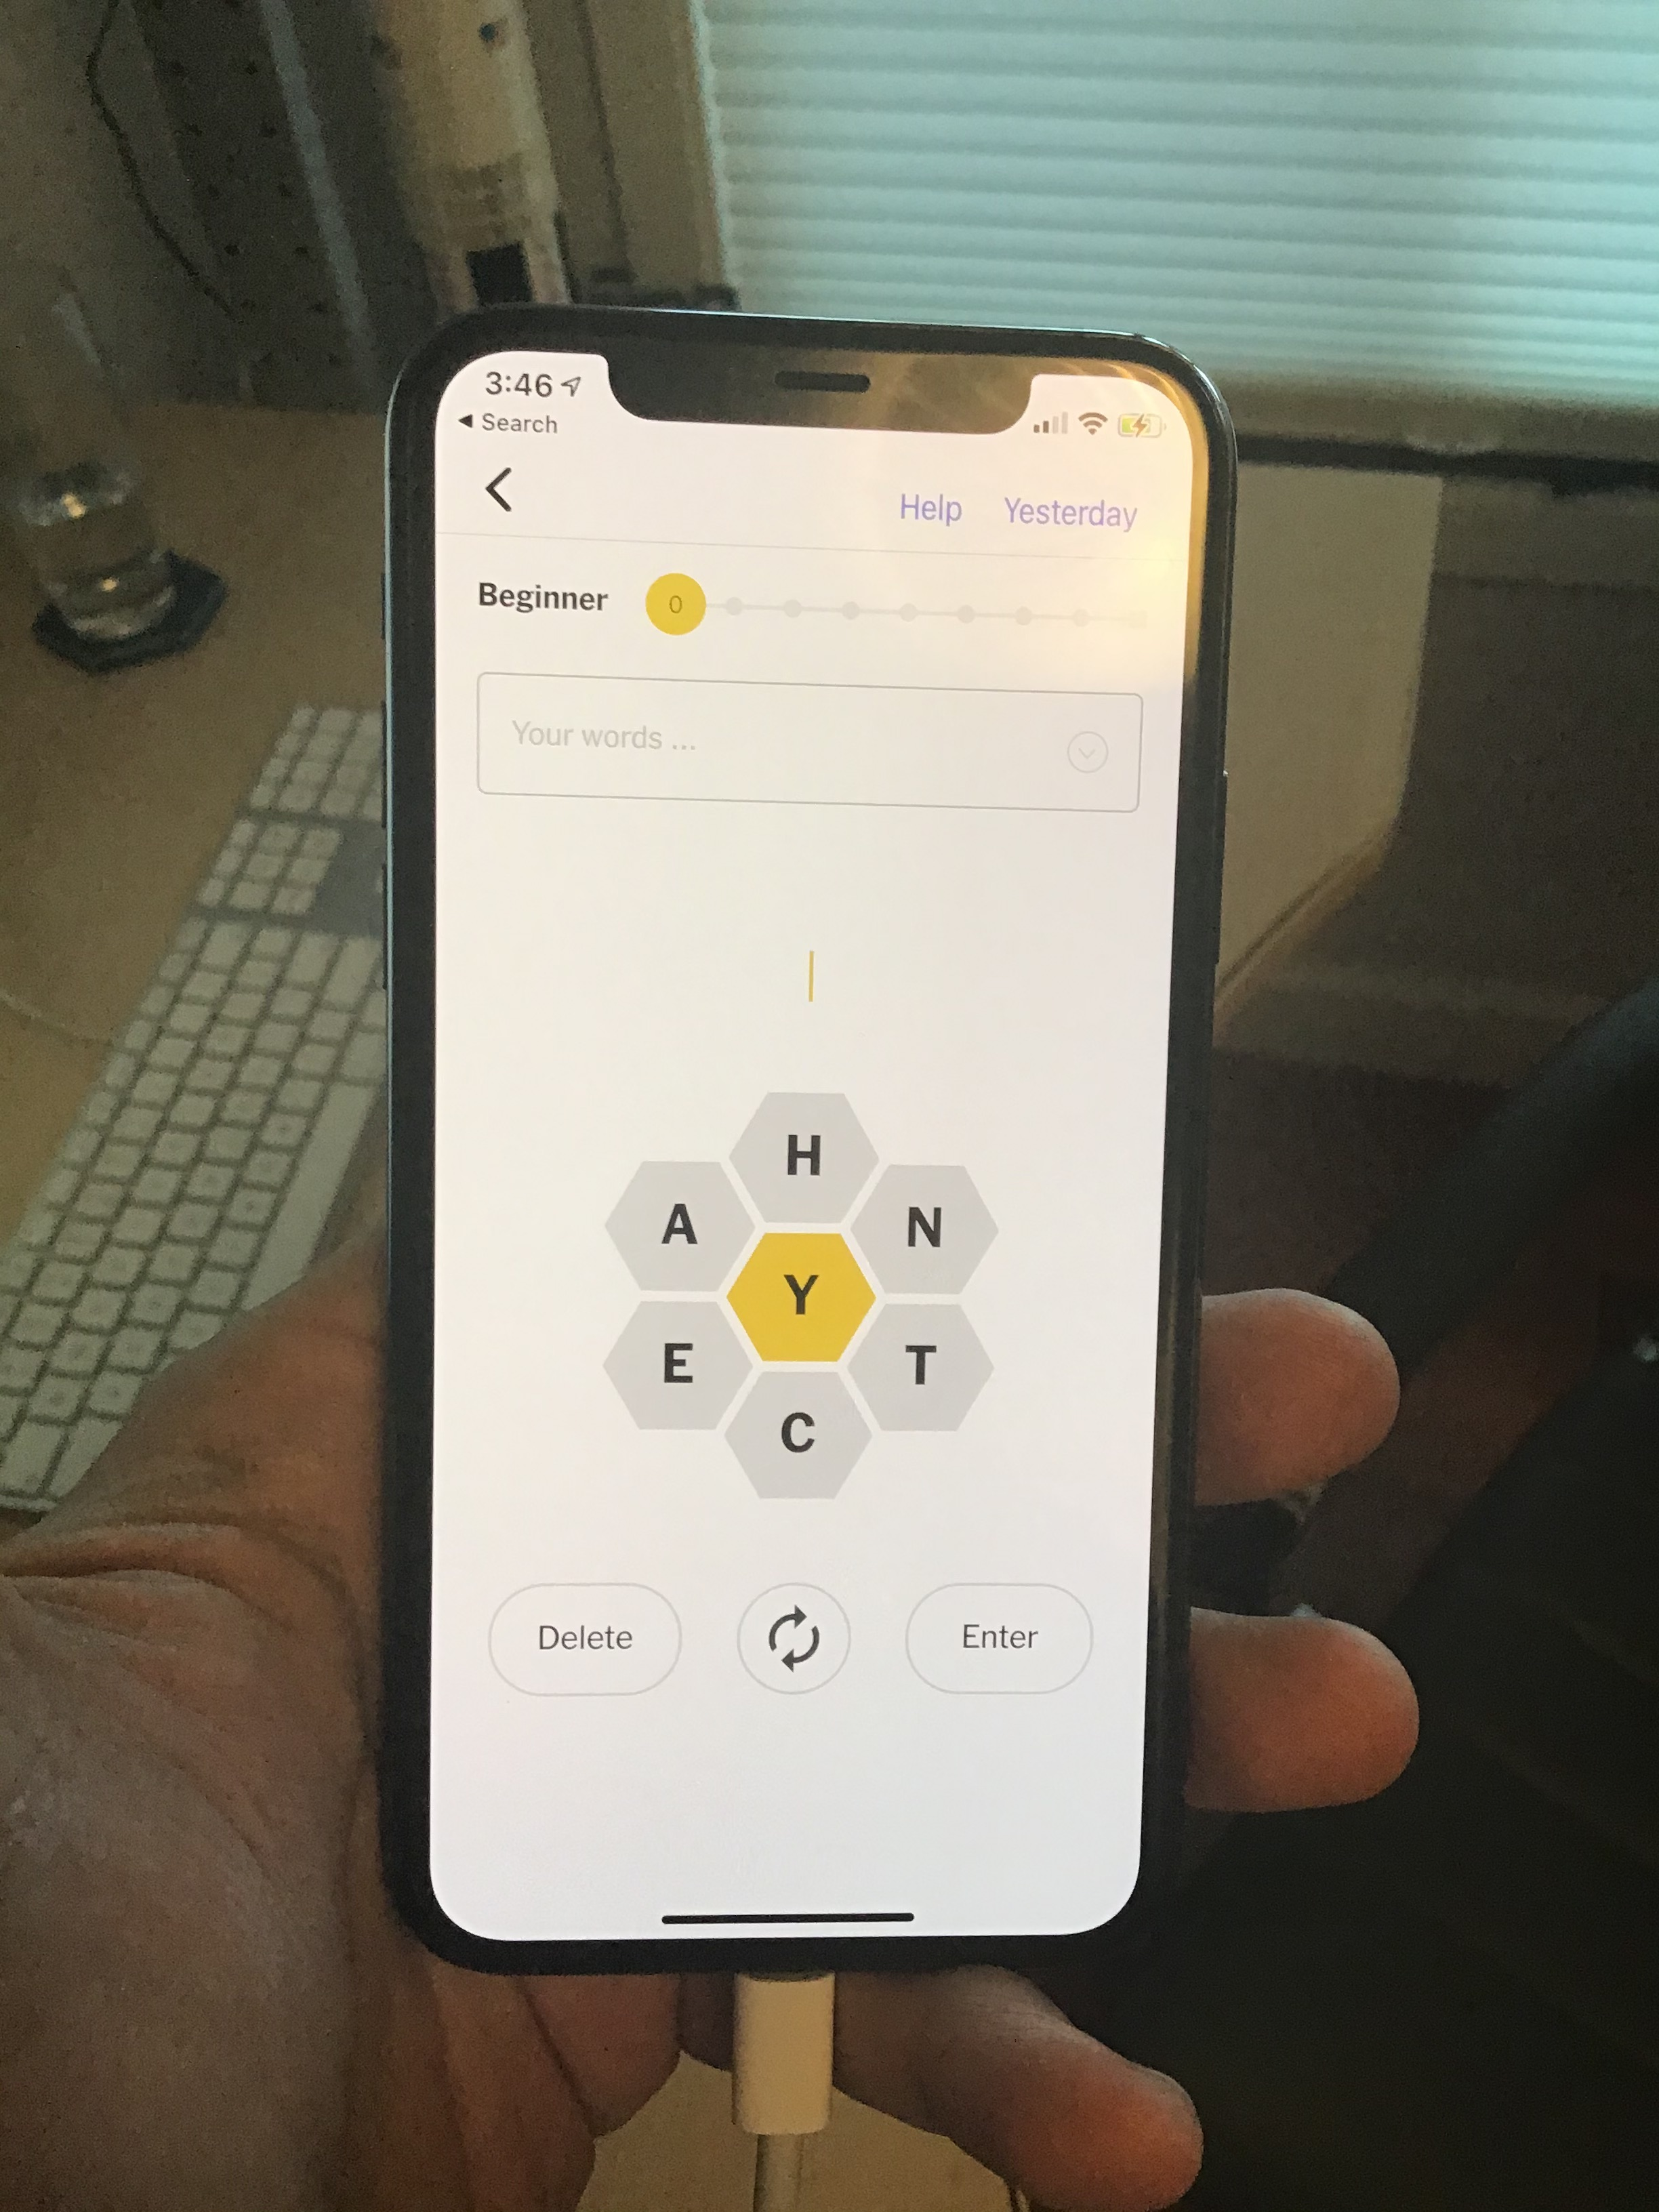Board: (558, 1061, 1044, 1545)
